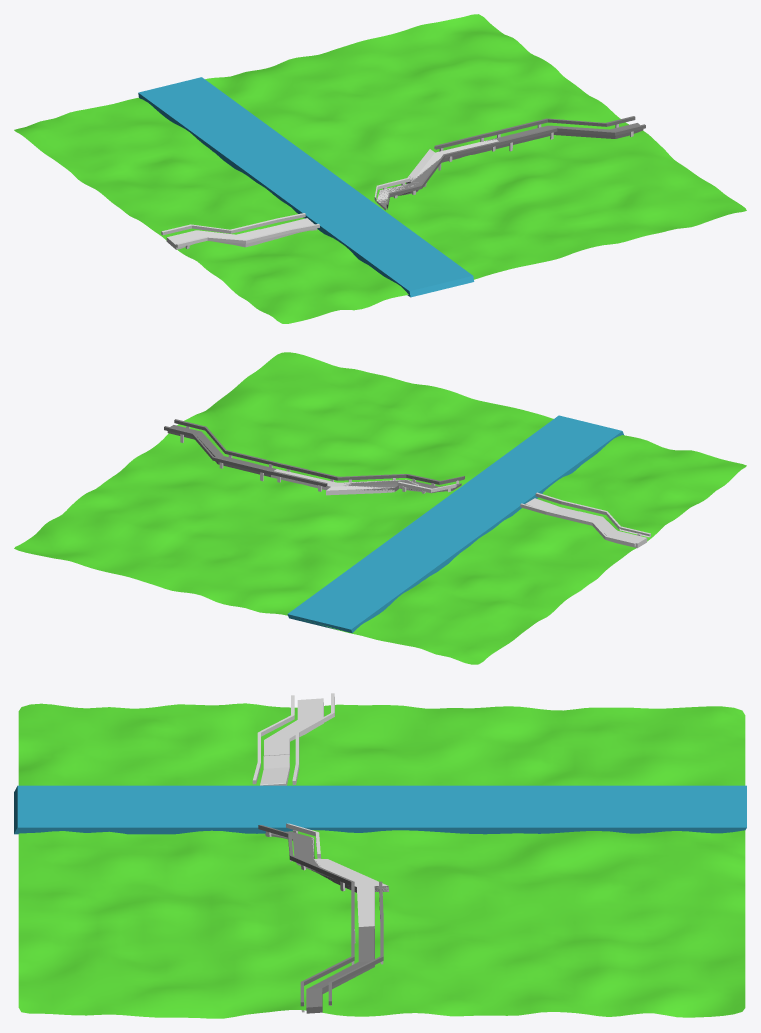
Rendered from park_II.dae.
3 renders of one model, top to bottom at view 1: azimuth 30°, elevation 25°; view 2: azimuth 150°, elevation 25°; view 3: azimuth 270°, elevation 25°, orthographic. The views are drawn at different scales.
Parts seen in each view (by area): view 1: Plane, Plane_002, Cube_003, Cube_025, Cube, Cube_001_001, Cube_002, Cube_003_001; view 2: Plane, Plane_002, Cube_003, Cube_025, Cube, Cube_001_001, Cube_003_001, Cube_002; view 3: Plane, Plane_002, Cube_025, Cube_003, Cube, Cube_001_001, Cube_001, Cube_002.
Part boxes in pixels (<box>): Plane: <box>14,14,746,323</box>; Plane_002: <box>138,77,474,297</box>; Cube_003: <box>386,116,645,207</box>; Cube_025: <box>377,123,643,208</box>; Cube: <box>376,139,498,210</box>; Cube_001_001: <box>166,229,268,249</box>; Cube_002: <box>161,213,305,235</box>; Cube_003_001: <box>176,223,319,247</box>; Plane: <box>14,352,746,664</box>; Plane_002: <box>287,415,623,633</box>; Cube_003: <box>164,419,464,486</box>; Cube_025: <box>167,425,461,492</box>; Cube: <box>271,469,431,495</box>; Cube_001_001: <box>571,511,647,548</box>; Cube_003_001: <box>535,492,650,537</box>; Cube_002: <box>520,503,635,546</box>; Plane: <box>18,703,745,1018</box>; Plane_002: <box>14,785,746,834</box>; Cube_025: <box>271,831,388,1013</box>; Cube_003: <box>258,825,383,1006</box>; Cube: <box>265,833,388,928</box>; Cube_001_001: <box>264,698,323,756</box>; Cube_001: <box>260,754,289,785</box>; Cube_002: <box>292,693,334,784</box>.
Size of the model in its own units: 127 by 127 by 3.81.
